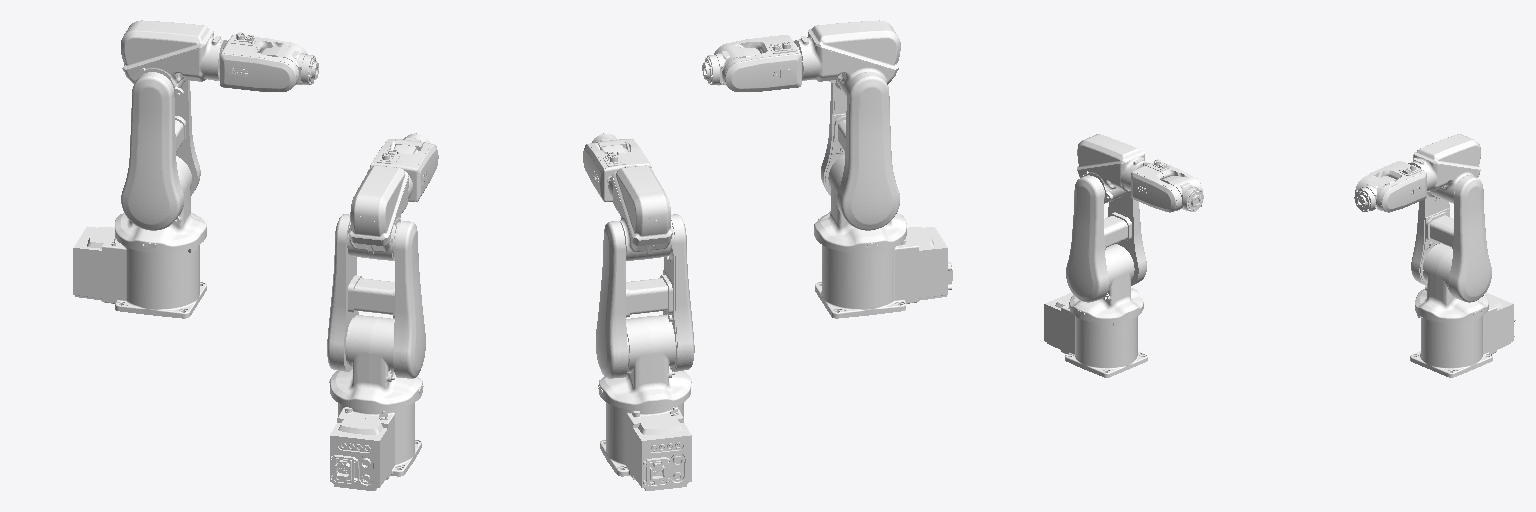
robot.urdf — abb:
<?xml version="1.0" ?> <!-- =================================================================================== --> <!-- |    This document was autogenerated by xacro from /root/colcon_ws/install/abb_irb_120_resource/share/abb_irb_120_resource/urdf/irb_120_dual.urdf.xacro | --> <!-- |    EDITING THIS FILE BY HAND IS NOT RECOMMENDED                                 | --> <!-- =================================================================================== --> <robot name="abb"> 
<material name="white"> 
<color rgba="1 1 1 1"/> 
</material> 
<link name="base_link"/> 
<!-- <link name="base_link"/> --> 
<link name="r1_link_0"> 
<visual> 
<geometry> 
<mesh filename="package://abb_irb_120_resource/meshes/Link_1.stl"/> 
</geometry> 
<material name="white"/> 
</visual> 
<collision> 
<geometry> 
<mesh filename="package://abb_irb_120_resource/meshes/Link_1.stl"/> 
</geometry> 
</collision> 
</link> 
<joint name="r1_joint_0" type="fixed"> 
<parent link="base_link"/> 
<child link="r1_link_0"/> 
<axis xyz="0 0 1"/> 
<origin rpy="0.0 0.0 0.78539" xyz="0.0 -0.5 0.0"/> 
</joint>
 <link name="r1_link_1"> <visual> <geometry> <mesh filename="package://abb_irb_120_resource/meshes/Link_2.stl"/> </geometry> <material name="white"/> </visual> <collision> <geometry> <mesh filename="package://abb_irb_120_resource/meshes/Link_2.stl"/> </geometry> </collision> </link> <joint name="r1_joint_1" type="revolute"> <parent link="r1_link_0"/> <child link="r1_link_1"/> <axis xyz="0 0 1"/> <origin rpy="0.0 0.0 0.0" xyz="0.0 0.0 0.166"/> <limit effort="1000.0" lower="-2.87925" upper="2.87925" velocity="1000"/> </joint> <link name="r1_link_2"> <visual> <geometry> <mesh filename="package://abb_irb_120_resource/meshes/Link_3.stl"/> </geometry> <material name="white"/> </visual> <collision> <geometry> <mesh filename="package://abb_irb_120_resource/meshes/Link_3.stl"/> </geometry> </collision> </link> <joint name="r1_joint_2" type="revolute"> <parent link="r1_link_1"/> <child link="r1_link_2"/> <axis xyz="0 0 1"/> <origin rpy="-1.5707 0.0 0.0" xyz="0.0 0.0 0.124"/> <limit effort="1000.0" lower="-1.9195" upper="1.9195" velocity="1000"/> </joint> <link name="r1_link_3"> <visual> <geometry> <mesh filename="package://abb_irb_120_resource/meshes/Link_4.stl"/> </geometry> <material name="white"/> </visual> <collision> <geometry> <mesh filename="package://abb_irb_120_resource/meshes/Link_4.stl"/> </geometry> </collision> </link> <joint name="r1_joint_3" type="revolute"> <parent link="r1_link_2"/> <child link="r1_link_3"/> <axis xyz="0 0 1"/> <origin rpy="0.0 0.0 -1.5707" xyz="0.0 -0.270 0.0"/> <limit effort="1000.0" lower="-1.9195" upper="1.2215" velocity="1000"/> </joint> <link name="r1_link_4"> <visual> <geometry> <mesh filename="package://abb_irb_120_resource/meshes/Link_5.stl"/> </geometry> <material name="white"/> </visual> <collision> <geometry> <mesh filename="package://abb_irb_120_resource/meshes/Link_5.stl"/> </geometry> </collision> </link> <joint name="r1_joint_4" type="revolute"> <parent link="r1_link_3"/> <child link="r1_link_4"/> <axis xyz="0 0 1"/> <origin rpy="-1.5707 0.0 0.0" xyz="0.07 0.149 0.0"/> <limit effort="1000.0" lower="-2.792" upper="2.792" velocity="1000"/> </joint> <link name="r1_link_5"> <visual> <geometry> <mesh filename="package://abb_irb_120_resource/meshes/Link_6.stl"/> </geometry> <material name="white"/> </visual> <collision> <geometry> <mesh filename="package://abb_irb_120_resource/meshes/Link_6.stl"/> </geometry> </collision> </link> <joint name="r1_joint_5" type="revolute"> <parent link="r1_link_4"/> <child link="r1_link_5"/> <axis xyz="0 0 1"/> <origin rpy="1.5707 0.0 0.0" xyz="0.0 0.0 0.1524"/> <limit effort="1000.0" lower="-2.0940000000000003" upper="2.0940000000000003" velocity="1000"/> </joint> <link name="r1_link_6"> <visual> <geometry> <mesh filename="package://abb_irb_120_resource/meshes/Link_7.stl"/> </geometry> <material name="white"/> </visual> <collision> <geometry> <mesh filename="package://abb_irb_120_resource/meshes/Link_7.stl"/> </geometry> </collision> </link> <joint name="r1_joint_6" type="revolute"> <parent link="r1_link_5"/> <child link="r1_link_6"/> <axis xyz="0 0 1"/> <origin rpy="-1.5707 0.0 0.0" xyz="0.0 0.06041 0.0"/> <limit effort="1000.0" lower="-6.98" upper="6.98" velocity="1000"/> </joint> <link name="r1_endeffector"/> <joint name="r1_joint_endeffector" type="fixed"> <parent link="r1_link_6"/> <child link="r1_endeffector"/> <origin rpy="0.0 0.0 0.0" xyz="0.0 0.0 0.012"/> </joint> <!-- <link name="base_link"/> --> <link name="r2_link_0"> <visual> <geometry> <mesh filename="package://abb_irb_120_resource/meshes/Link_1.stl"/> </geometry> <material name="white"/> </visual> <collision> <geometry> <mesh filename="package://abb_irb_120_resource/meshes/Link_1.stl"/> </geometry> </collision> </link> <joint name="r2_joint_0" type="fixed"> <parent link="base_link"/> <child link="r2_link_0"/> <axis xyz="0 0 1"/> <origin rpy="0.0 0.0 -0.78539" xyz="0.0 0.5 0.0"/> </joint> <link name="r2_link_1"> <visual> <geometry> <mesh filename="package://abb_irb_120_resource/meshes/Link_2.stl"/> </geometry> <material name="white"/> </visual> <collision> <geometry> <mesh filename="package://abb_irb_120_resource/meshes/Link_2.stl"/> </geometry> </collision> </link> <joint name="r2_joint_1" type="revolute"> <parent link="r2_link_0"/> <child link="r2_link_1"/> <axis xyz="0 0 1"/> <origin rpy="0.0 0.0 0.0" xyz="0.0 0.0 0.166"/> <limit effort="1000.0" lower="-2.87925" upper="2.87925" velocity="1000"/> </joint> <link name="r2_link_2"> <visual> <geometry> <mesh filename="package://abb_irb_120_resource/meshes/Link_3.stl"/> </geometry> <material name="white"/> </visual> <collision> <geometry> <mesh filename="package://abb_irb_120_resource/meshes/Link_3.stl"/> </geometry> </collision> </link> <joint name="r2_joint_2" type="revolute"> <parent link="r2_link_1"/> <child link="r2_link_2"/> <axis xyz="0 0 1"/> <origin rpy="-1.5707 0.0 0.0" xyz="0.0 0.0 0.124"/> <limit effort="1000.0" lower="-1.9195" upper="1.9195" velocity="1000"/> </joint> <link name="r2_link_3"> <visual> <geometry> <mesh filename="package://abb_irb_120_resource/meshes/Link_4.stl"/> </geometry> <material name="white"/> </visual> <collision> <geometry> <mesh filename="package://abb_irb_120_resource/meshes/Link_4.stl"/> </geometry> </collision> </link> <joint name="r2_joint_3" type="revolute"> <parent link="r2_link_2"/> <child link="r2_link_3"/> <axis xyz="0 0 1"/> <origin rpy="0.0 0.0 -1.5707" xyz="0.0 -0.270 0.0"/> <limit effort="1000.0" lower="-1.9195" upper="1.2215" velocity="1000"/> </joint> <link name="r2_link_4"> <visual> <geometry> <mesh filename="package://abb_irb_120_resource/meshes/Link_5.stl"/> </geometry> <material name="white"/> </visual> <collision> <geometry> <mesh filename="package://abb_irb_120_resource/meshes/Link_5.stl"/> </geometry> </collision> </link> <joint name="r2_joint_4" type="revolute"> <parent link="r2_link_3"/> <child link="r2_link_4"/> <axis xyz="0 0 1"/> <origin rpy="-1.5707 0.0 0.0" xyz="0.07 0.149 0.0"/> <limit effort="1000.0" lower="-2.792" upper="2.792" velocity="1000"/> </joint> <link name="r2_link_5"> <visual> <geometry> <mesh filename="package://abb_irb_120_resource/meshes/Link_6.stl"/> </geometry> <material name="white"/> </visual> <collision> <geometry> <mesh filename="package://abb_irb_120_resource/meshes/Link_6.stl"/> </geometry> </collision> </link> <joint name="r2_joint_5" type="revolute"> <parent link="r2_link_4"/> <child link="r2_link_5"/> <axis xyz="0 0 1"/> <origin rpy="1.5707 0.0 0.0" xyz="0.0 0.0 0.1524"/> <limit effort="1000.0" lower="-2.0940000000000003" upper="2.0940000000000003" velocity="1000"/> </joint> <link name="r2_link_6"> <visual> <geometry> <mesh filename="package://abb_irb_120_resource/meshes/Link_7.stl"/> </geometry> <material name="white"/> </visual> <collision> <geometry> <mesh filename="package://abb_irb_120_resource/meshes/Link_7.stl"/> </geometry> </collision> </link> <joint name="r2_joint_6" type="revolute"> <parent link="r2_link_5"/> <child link="r2_link_6"/> <axis xyz="0 0 1"/> <origin rpy="-1.5707 0.0 0.0" xyz="0.0 0.06041 0.0"/> <limit effort="1000.0" lower="-6.98" upper="6.98" velocity="1000"/> </joint> <link name="r2_endeffector"/> <joint name="r2_joint_endeffector" type="fixed"> <parent link="r2_link_6"/> <child link="r2_endeffector"/> <origin rpy="0.0 0.0 0.0" xyz="0.0 0.0 0.012"/> </joint> <ros2_control name="r1_ABBMultiInterfaceHardware" type="system"> <hardware> <plugin>abb_hardware_interface/ABBSystemHardware</plugin> <param name="rws_port">80</param> <param name="rws_ip">192.168.88.190</param> <param name="prefix">r1</param> <param name="egm_port">6511</param> </hardware> <joint name="r1_joint_1"> <command_interface name="position"> <param name="min">{-2*pi}</param> <param name="max">{2*pi}</param> </command_interface> <command_interface name="velocity"/> <state_interface name="position"> <param name="initial_value">0.0</param> </state_interface> <state_interface name="velocity"/> </joint> <joint name="r1_joint_2"> <command_interface name="position"> <param name="min">-2.41</param> <param name="max">2.41</param> </command_interface> <command_interface name="velocity"/> <state_interface name="position"> <param name="initial_value">0.0</param> </state_interface> <state_interface name="velocity"/> </joint> <joint name="r1_joint_3"> <command_interface name="position"> <param name="min">{-2*pi}</param> <param name="max">{2*pi}</param> </command_interface> <command_interface name="velocity"/> <state_interface name="position"> <param name="initial_value">0.0</param> </state_interface> <state_interface name="velocity"/> </joint> <joint name="r1_joint_4"> <command_interface name="position"> <param name="min">-2.66</param> <param name="max">2.66</param> </command_interface> <command_interface name="velocity"/> <state_interface name="position"> <param name="initial_value">0.0</param> </state_interface> <state_interface name="velocity"/> </joint> <joint name="r1_joint_5"> <command_interface name="position"> <param name="min">{-2*pi}</param> <param name="max">{2*pi}</param> </command_interface> <command_interface name="velocity"/> <state_interface name="position"> <param name="initial_value">0.0</param> </state_interface> <state_interface name="velocity"/> </joint> <joint name="r1_joint_6"> <command_interface name="position"> <param name="min">-2.23</param> <param name="max">2.23</param> </command_interface> <command_interface name="velocity"/> <state_interface name="position"> <param name="initial_value">0.0</param> </state_interface> <state_interface name="velocity"/> </joint> </ros2_control> <ros2_control name="r2_ABBMultiInterfaceHardware" type="system"> <hardware> <plugin>abb_hardware_interface/ABBSystemHardware</plugin> <param name="rws_port">80</param> <param name="rws_ip">192.168.88.200</param> <param name="prefix">r2</param> <param name="egm_port">6512</param> </hardware> <joint name="r2_joint_1"> <command_interface name="position"> <param name="min">{-2*pi}</param> <param name="max">{2*pi}</param> </command_interface> <command_interface name="velocity"/> <state_interface name="position"> <param name="initial_value">0.0</param> </state_interface> <state_interface name="velocity"/> </joint> <joint name="r2_joint_2"> <command_interface name="position"> <param name="min">-2.41</param> <param name="max">2.41</param> </command_interface> <command_interface name="velocity"/> <state_interface name="position"> <param name="initial_value">0.0</param> </state_interface> <state_interface name="velocity"/> </joint> <joint name="r2_joint_3"> <command_interface name="position"> <param name="min">{-2*pi}</param> <param name="max">{2*pi}</param> </command_interface> <command_interface name="velocity"/> <state_interface name="position"> <param name="initial_value">0.0</param> </state_interface> <state_interface name="velocity"/> </joint> <joint name="r2_joint_4"> <command_interface name="position"> <param name="min">-2.66</param> <param name="max">2.66</param> </command_interface> <command_interface name="velocity"/> <state_interface name="position"> <param name="initial_value">0.0</param> </state_interface> <state_interface name="velocity"/> </joint> <joint name="r2_joint_5"> <command_interface name="position"> <param name="min">{-2*pi}</param> <param name="max">{2*pi}</param> </command_interface> <command_interface name="velocity"/> <state_interface name="position"> <param name="initial_value">0.0</param> </state_interface> <state_interface name="velocity"/> </joint> <joint name="r2_joint_6"> <command_interface name="position"> <param name="min">-2.23</param> <param name="max">2.23</param> </command_interface> <command_interface name="velocity"/> <state_interface name="position"> <param name="initial_value">0.0</param> </state_interface> <state_interface name="velocity"/> </joint> </ros2_control> </robot>

--- Render facts (derived) ---
The picture shows the robot from 3 angles, left to right: view 1: azimuth 30°, elevation 25°; view 2: azimuth 150°, elevation 25°; view 3: azimuth 270°, elevation 25°; orthographic projection.
Model abb with 17 links and 16 joints (12 revolute, 4 fixed), rooted at base_link, posed all joints at 0.
Visible links, largest first — view 1: r2_link_2, r1_link_2, r2_link_0, r1_link_0, r1_link_1, r2_link_3, r1_link_3, r2_link_4, r2_link_1, r1_link_4, r2_link_5; view 2: r1_link_2, r1_link_0, r2_link_2, r2_link_0, r2_link_1, r1_link_3, r2_link_3, r1_link_4, r1_link_1, r2_link_4, r1_link_5; view 3: r1_link_2, r2_link_2, r2_link_0, r1_link_0, r2_link_1, r1_link_1, r2_link_3, r1_link_3, r1_link_4, r2_link_4, r2_link_5, r1_link_5.
Link boxes in pixels (x1,y1,x2,y2): r2_link_2: (121,72,200,230); r1_link_2: (327,214,425,378); r2_link_0: (73,227,206,318); r1_link_0: (330,403,421,490); r1_link_1: (329,315,423,410); r2_link_3: (121,20,226,97); r1_link_3: (347,165,412,260); r2_link_4: (219,32,306,91); r2_link_1: (115,156,206,252); r1_link_4: (370,139,438,201); r2_link_5: (261,45,316,84); r1_link_2: (821,72,899,230); r1_link_0: (815,227,952,318); r2_link_2: (596,214,694,378); r2_link_0: (600,402,691,490); r2_link_1: (598,315,691,410); r1_link_3: (794,20,900,96); r2_link_3: (608,165,673,260); r1_link_4: (714,35,802,91); r1_link_1: (814,155,906,252); r2_link_4: (583,139,651,201); r1_link_5: (705,45,760,85); r1_link_2: (1066,175,1146,302); r2_link_2: (1411,175,1491,302); r2_link_0: (1410,292,1515,377); r1_link_0: (1044,293,1147,377); r2_link_1: (1415,243,1488,322); r1_link_1: (1069,244,1143,326); r2_link_3: (1408,134,1481,203); r1_link_3: (1077,134,1149,203); r1_link_4: (1131,159,1202,212); r2_link_4: (1355,161,1426,212); r2_link_5: (1354,176,1396,211); r1_link_5: (1161,176,1203,211).
Size in the robot's own frame: 0.4684 by 1.36 by 0.6996 metres.
14 mesh visuals loaded from 7 distinct referenced files (7 binary STL).
